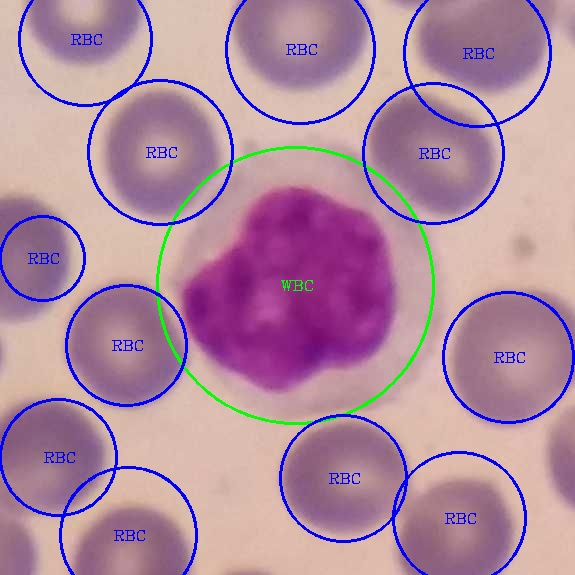RBC: (362, 86, 508, 226), (446, 280, 574, 436), (96, 84, 229, 229), (272, 414, 413, 544), (61, 276, 190, 415), (409, 0, 565, 100), (223, 0, 377, 100), (0, 391, 116, 523), (394, 469, 524, 574), (1, 186, 80, 329), (14, 0, 158, 76), (61, 499, 200, 574)
WBC: (167, 131, 445, 412)
